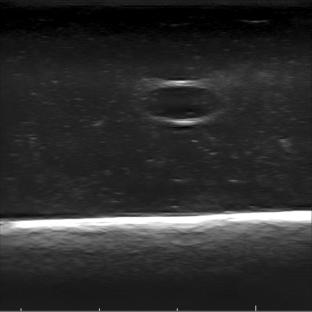vessel: (144, 79, 223, 125)
